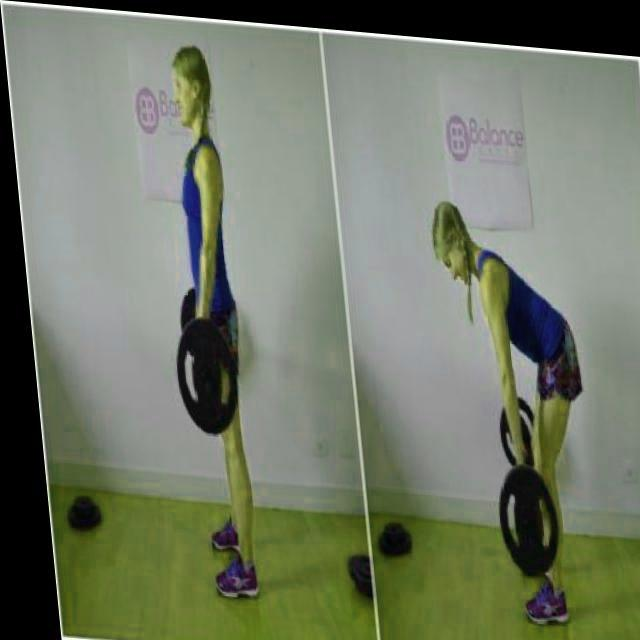barbell: (156, 307, 247, 437), (482, 452, 560, 575)
